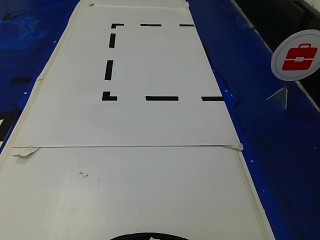company: (267, 31, 318, 83)
